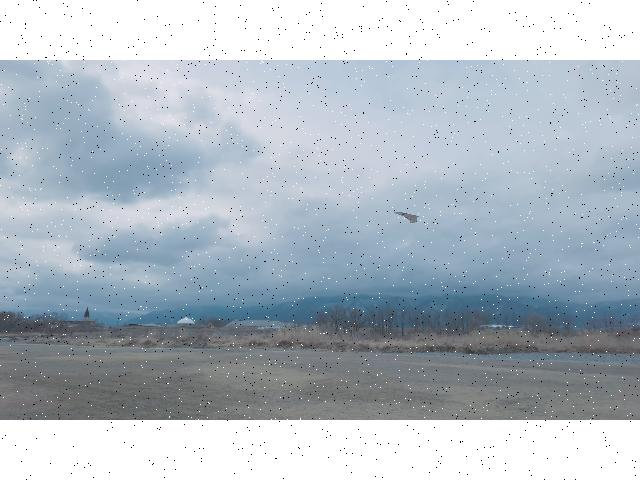Anti-Drone: (392, 211, 420, 226)
